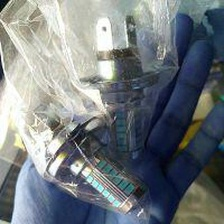light_bulb: (20, 102, 147, 221), (76, 10, 164, 161)
